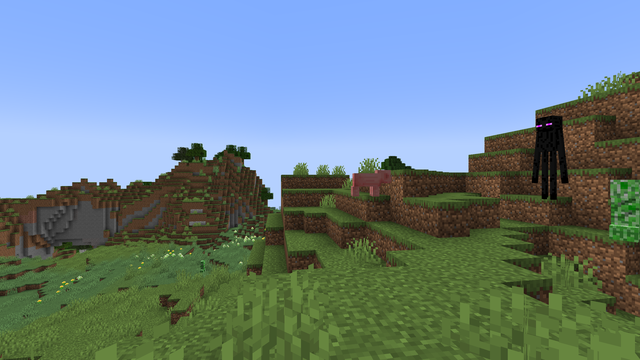cochons: (351, 172, 381, 196)
creepers: (603, 176, 637, 241), (199, 259, 204, 272)
endermens: (533, 112, 565, 197)
